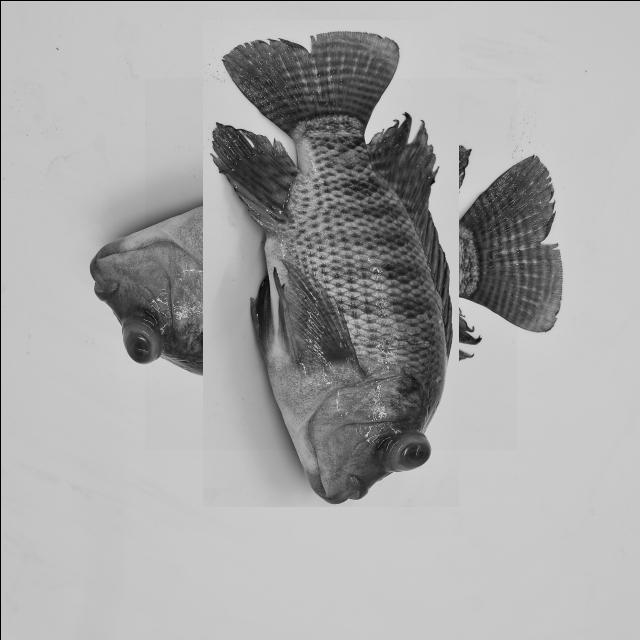streptococcus Disease: (144, 77, 516, 449)
